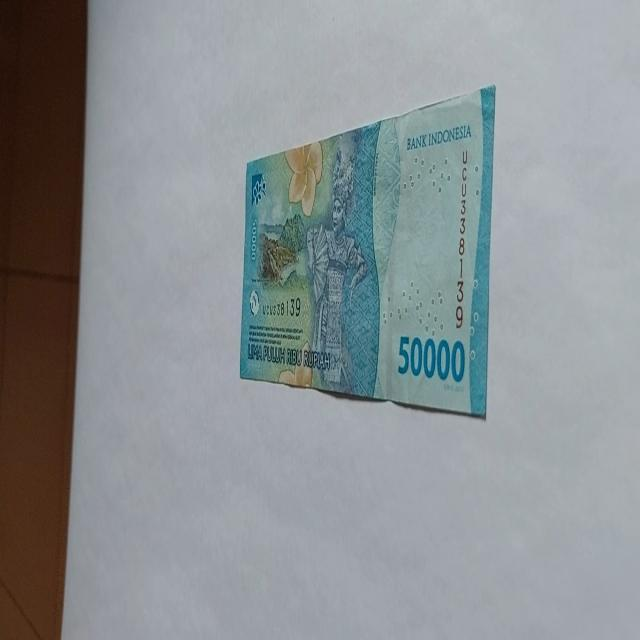lima puluh ribu rupiah: (238, 82, 497, 420), (405, 122, 472, 152)
